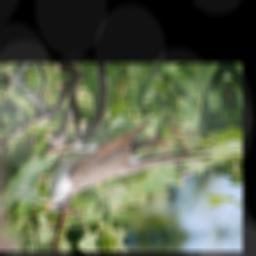Cuckoo: (34, 113, 223, 214)
